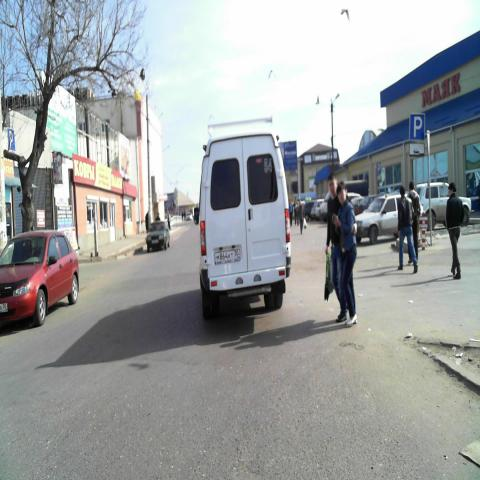8_6_4: (410, 142, 424, 157)
